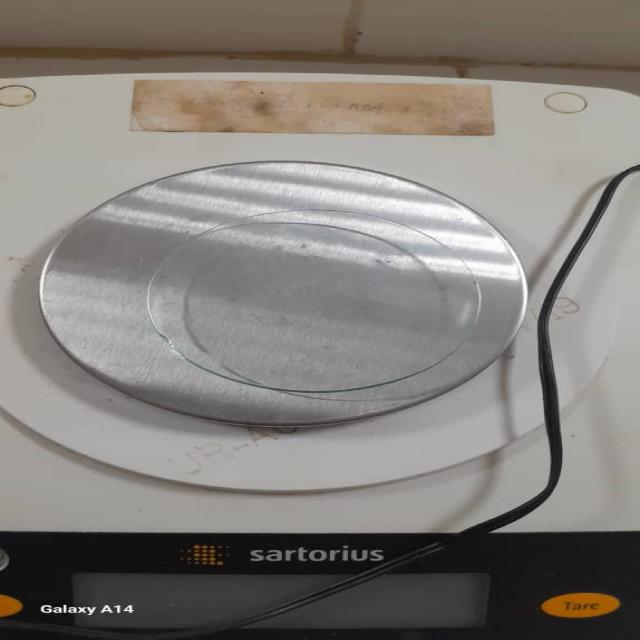Pedrish: (171, 223, 486, 386)
